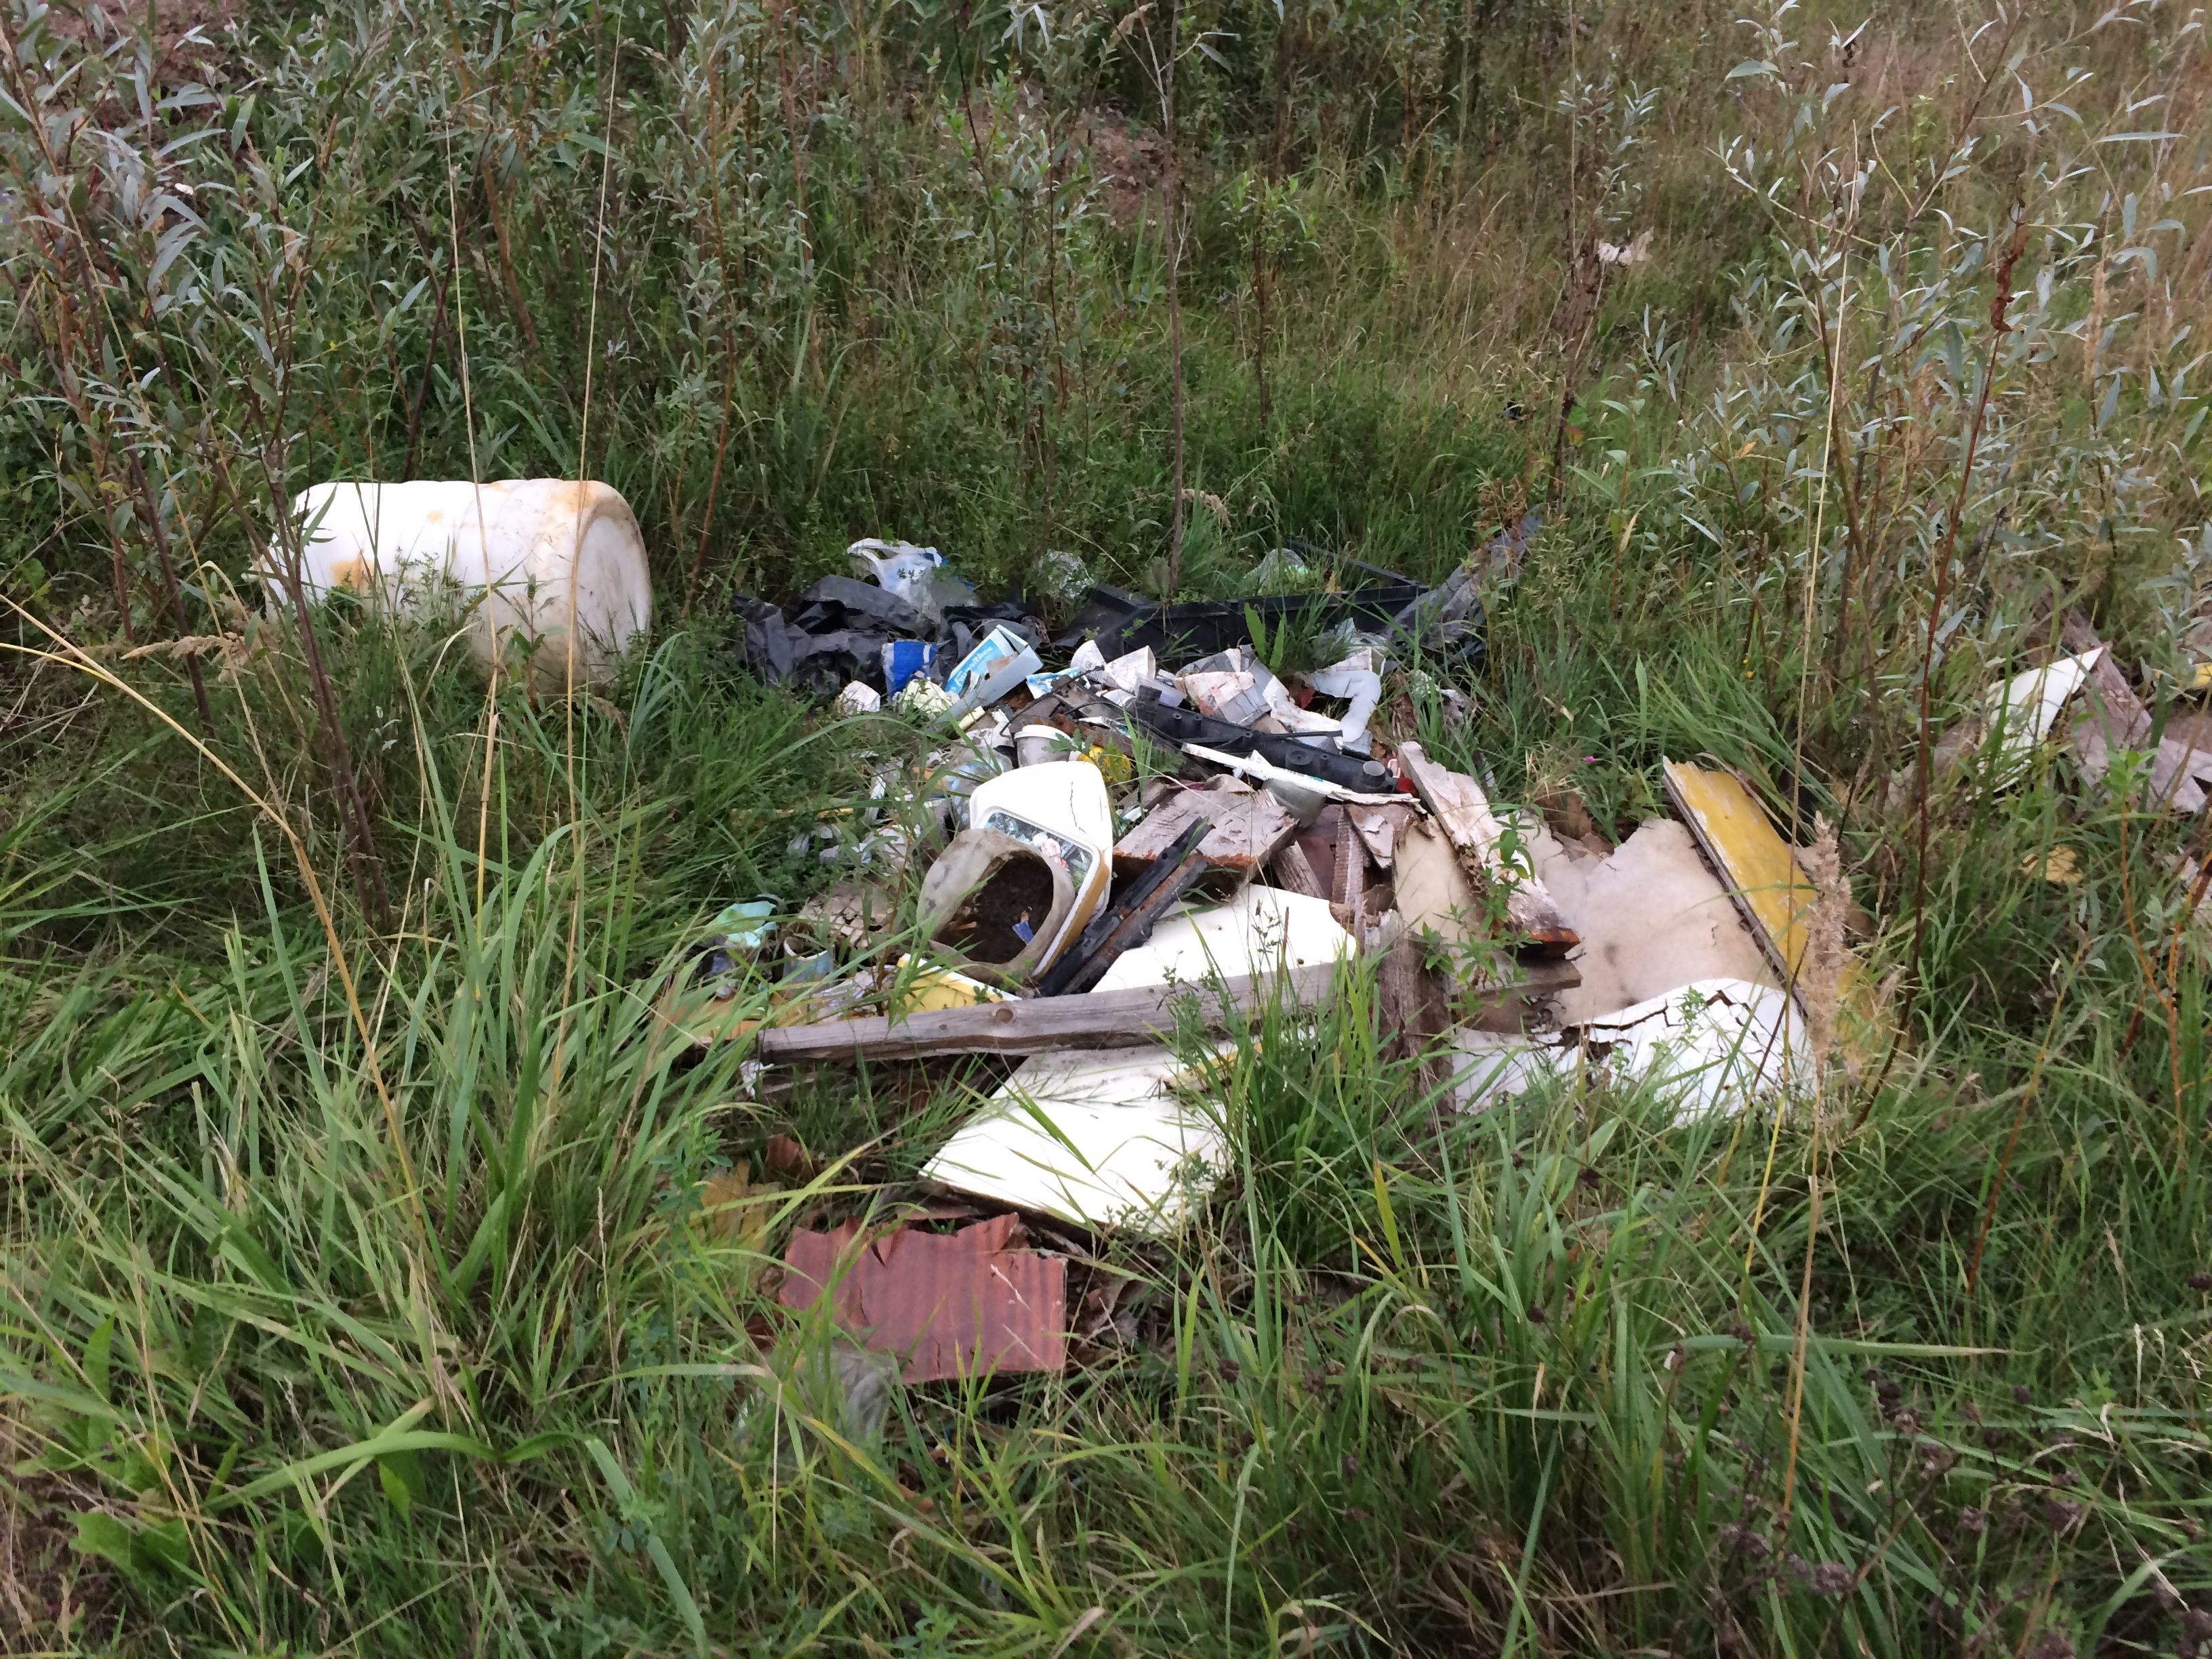trash: (132, 458, 2017, 1352)
